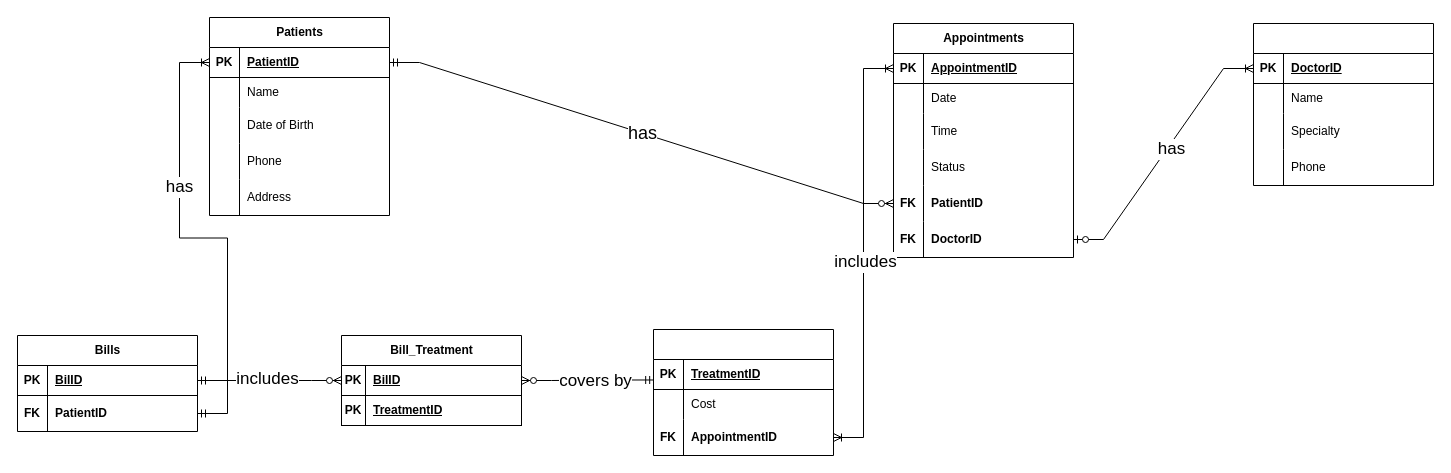
Image size: 1451x473. Some labels were removed from this diagram. Here are the shapes that lost their labels. From the top down, the box of each, then its label:
(1252, 22, 1434, 186): Doctors
(652, 328, 834, 456): Treatments
